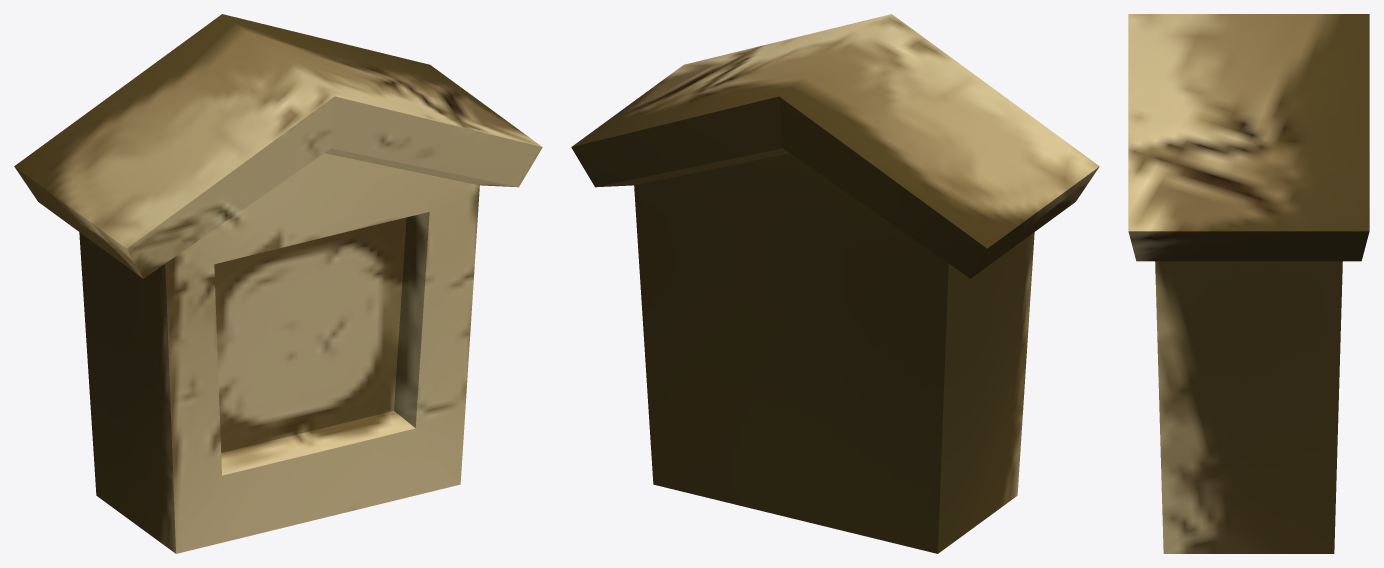
File: Rome_Village_Props_19.FBX
The picture shows the model from 3 angles, left to right: view 1: azimuth 30°, elevation 25°; view 2: azimuth 150°, elevation 25°; view 3: azimuth 270°, elevation 25°; orthographic projection. The views are drawn at different scales.
Visible parts, largest first — view 1: Rome_Village_Props_19; view 2: Rome_Village_Props_19; view 3: Rome_Village_Props_19.
Boxes of the visible parts, bbox=[...] form: Rome_Village_Props_19: bbox=[14, 14, 542, 553]; Rome_Village_Props_19: bbox=[571, 14, 1099, 553]; Rome_Village_Props_19: bbox=[1128, 14, 1369, 553].
Size of the model in its own units: 59.27 by 59.19 by 27.77.
